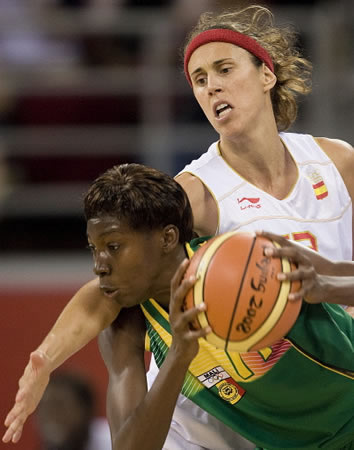basketball: (182, 235, 301, 350)
